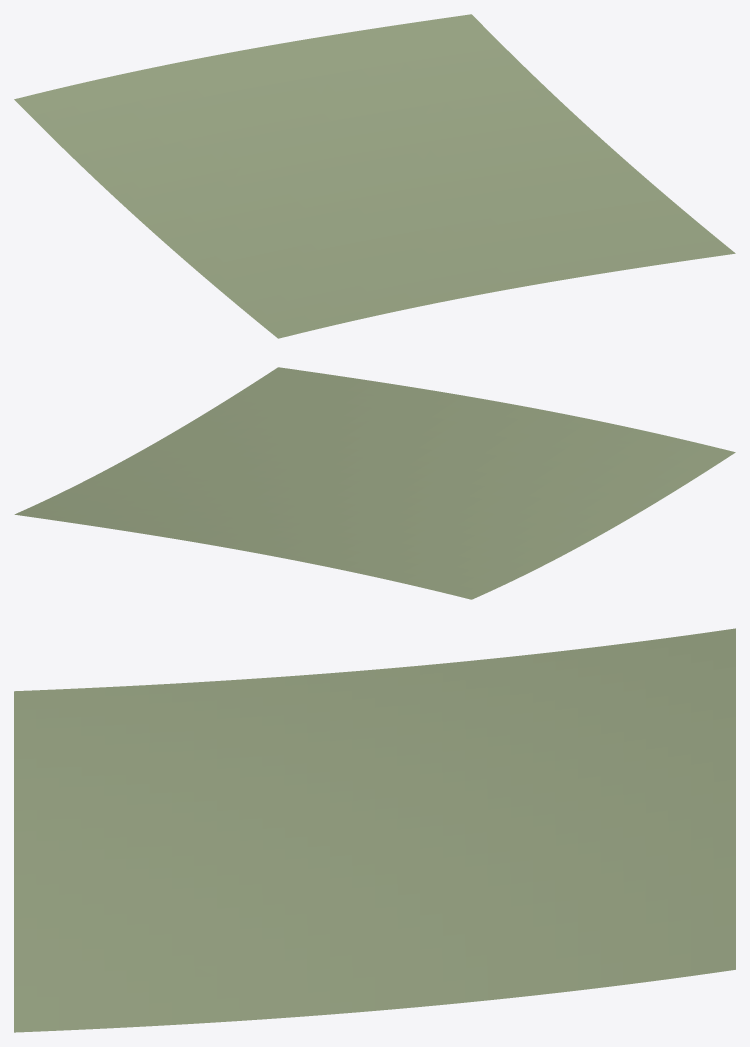
The model's file is valley-11-3.glb.
3 views of the same model, one above another, from view 1: azimuth 30°, elevation 25°; view 2: azimuth 150°, elevation 25°; view 3: azimuth 270°, elevation 25° (orthographic). The views are drawn at different scales.
Parts seen in each view (by area): view 1: valley-11-3; view 2: valley-11-3; view 3: valley-11-3.
Boxes of the visible parts, x1,y1,x2,y2 form: valley-11-3: (14, 14, 735, 338); valley-11-3: (14, 367, 735, 599); valley-11-3: (14, 628, 735, 1032).
Size of the model in its own units: 256 by 38.78 by 256.
